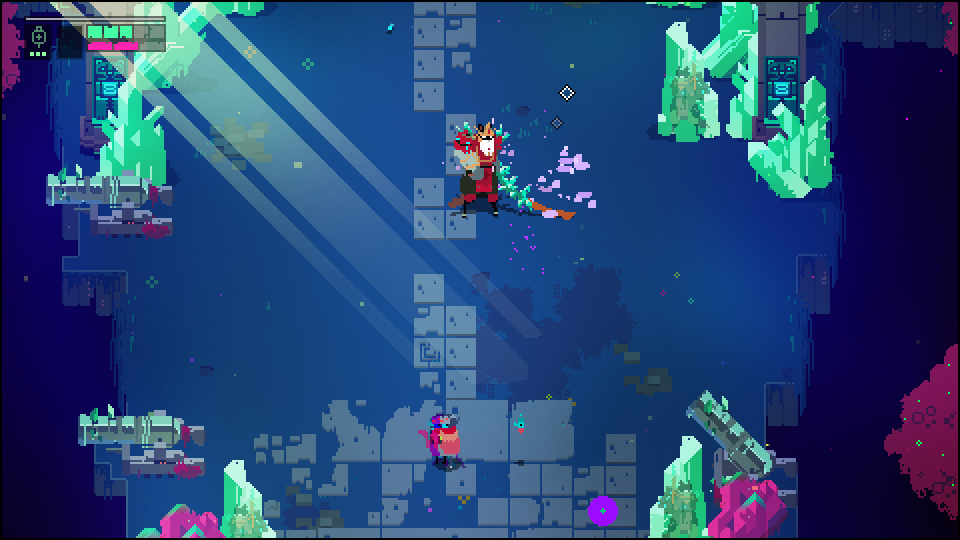hanged_man: (451, 118, 539, 216)
hanged_shot: (586, 492, 617, 528)
player: (436, 414, 468, 469)
